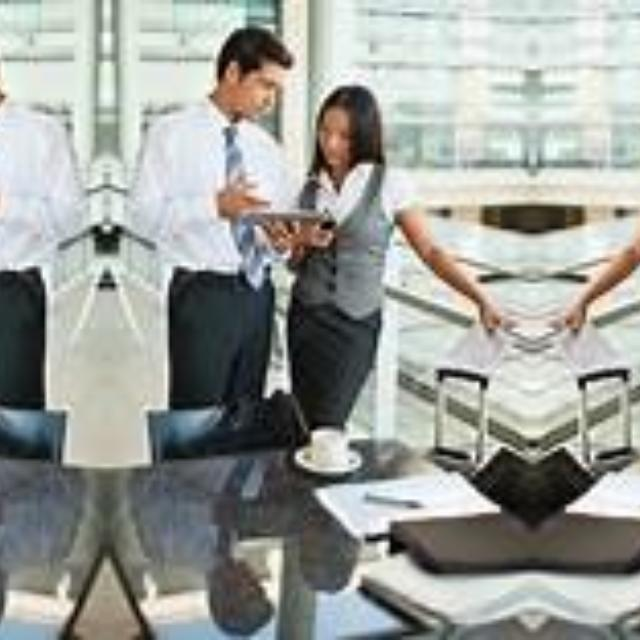person: (290, 76, 492, 424), (132, 8, 294, 424), (0, 7, 80, 424), (573, 76, 640, 424)
